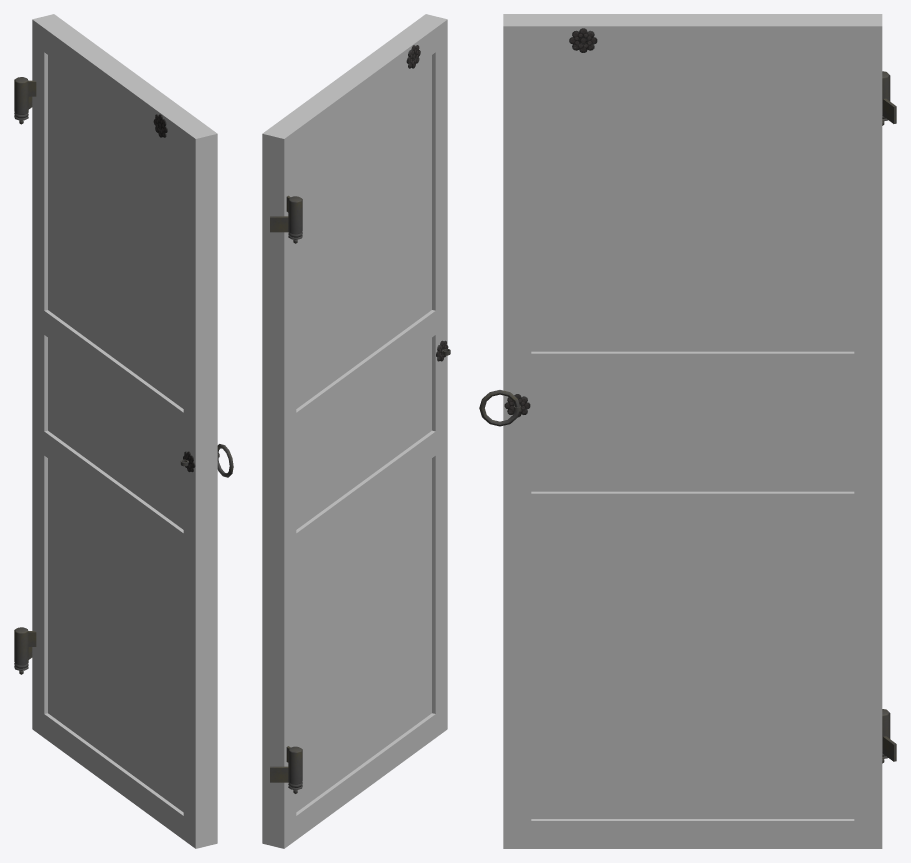
The model's file is SM_GateDoor01N.fbx.
3 renders of one model, left to right at view 1: azimuth 30°, elevation 25°; view 2: azimuth 150°, elevation 25°; view 3: azimuth 270°, elevation 25°, orthographic. The views are drawn at different scales.
Visible parts, largest first — view 1: SM_GateDoor01N; view 2: SM_GateDoor01N; view 3: SM_GateDoor01N.
Boxes of the visible parts, <box> form: SM_GateDoor01N: <box>14,14,233,848</box>; SM_GateDoor01N: <box>262,14,450,848</box>; SM_GateDoor01N: <box>479,14,896,848</box>.
Bounding box in the file's own units: 11.26 × 75 × 163.
